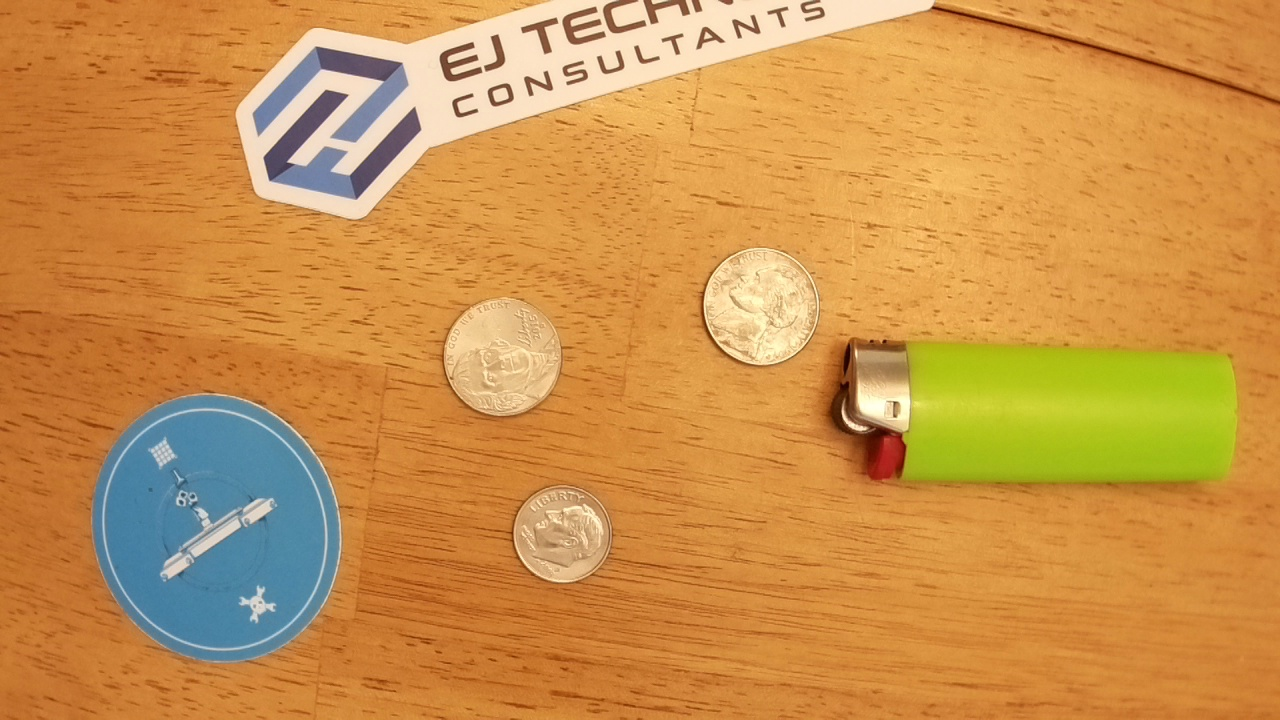dime: (509, 482, 613, 586)
nickel: (437, 295, 567, 425), (698, 245, 824, 369)
